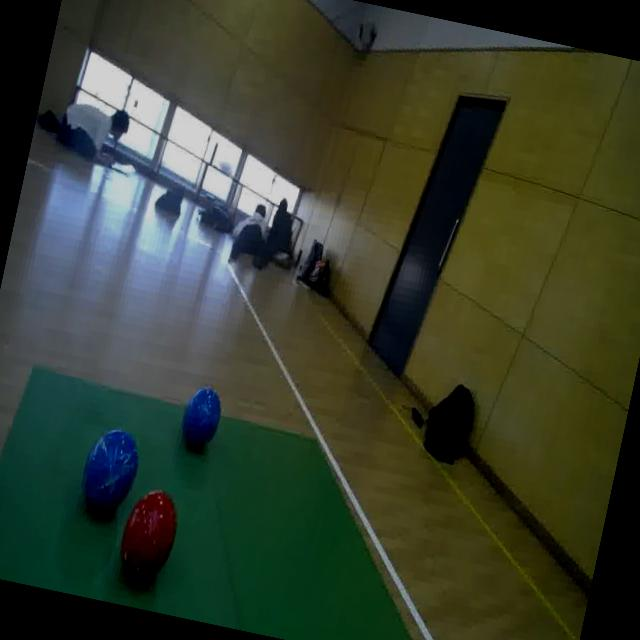blue_ball: (73, 422, 145, 526), (176, 380, 226, 456)
red_ball: (110, 480, 188, 595)
